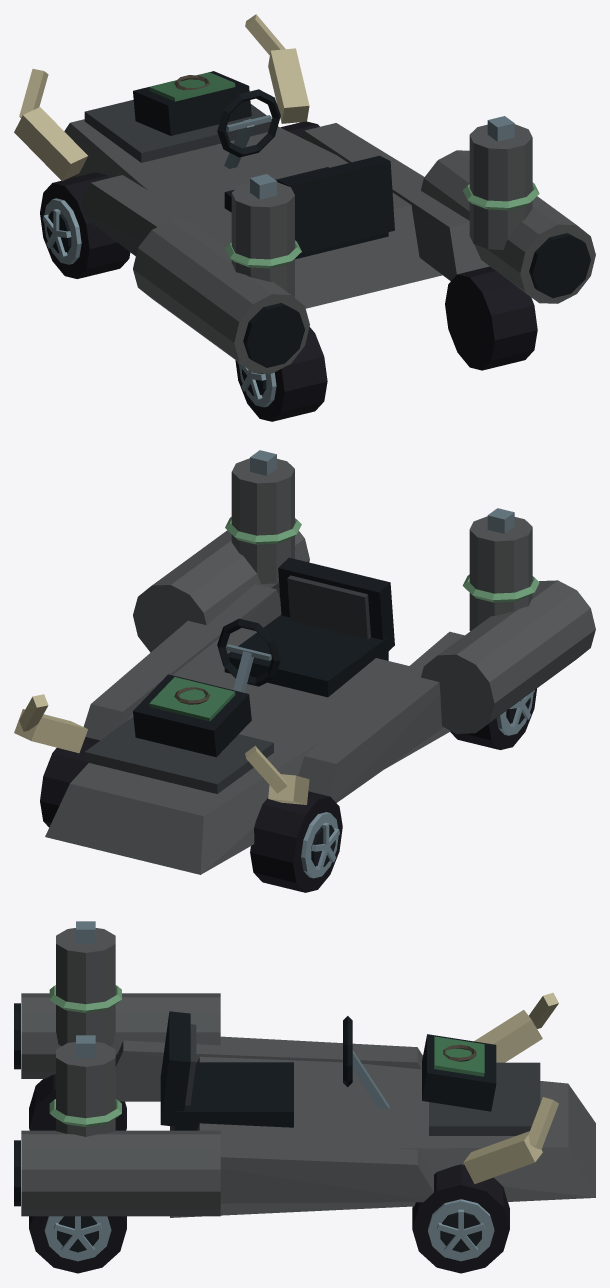
The model's file is kart.glb.
3 views of the same model, one above another, from view 1: azimuth 30°, elevation 25°; view 2: azimuth 150°, elevation 25°; view 3: azimuth 270°, elevation 25° (orthographic).
Parts seen in each view (by area): view 1: identity-speeder-speeder-long-cowl-and-stern-turbines, identity-speeder-motif-tanks, identity-speeder-driver-cockpit, wheel-rear-right, identity-speeder-motif-tusks, wheel-front-left, identity-speeder-motif-scanner, wheel-rear-left; view 2: identity-speeder-speeder-long-cowl-and-stern-turbines, identity-speeder-driver-cockpit, identity-speeder-motif-tanks, wheel-front-left, identity-speeder-motif-scanner, identity-speeder-motif-tusks, wheel-front-right, wheel-rear-left; view 3: identity-speeder-speeder-long-cowl-and-stern-turbines, identity-speeder-motif-tanks, identity-speeder-driver-cockpit, wheel-front-right, identity-speeder-motif-tusks, identity-speeder-motif-scanner, wheel-rear-right, wheel-rear-left.
Boxes of the visible parts, box(x1,y1,x2,y2) form: identity-speeder-speeder-long-cowl-and-stern-turbines: box(64, 99, 595, 373); identity-speeder-motif-tanks: box(225, 116, 539, 296); identity-speeder-driver-cockpit: box(217, 89, 394, 259); wheel-rear-right: box(445, 266, 537, 370); identity-speeder-motif-tusks: box(14, 14, 309, 181); wheel-front-left: box(40, 172, 130, 278); identity-speeder-motif-scanner: box(133, 71, 251, 135); wheel-rear-left: box(235, 327, 327, 421); identity-speeder-speeder-long-cowl-and-stern-turbines: box(45, 530, 595, 874); identity-speeder-driver-cockpit: box(217, 557, 394, 697); identity-speeder-motif-tanks: box(225, 450, 539, 631); wheel-front-left: box(250, 791, 342, 892); identity-speeder-motif-scanner: box(133, 674, 251, 757); identity-speeder-motif-tusks: box(14, 694, 309, 804); wheel-front-right: box(40, 737, 99, 827); wheel-rear-left: box(450, 688, 536, 749); identity-speeder-speeder-long-cowl-and-stern-turbines: box(14, 993, 595, 1217); identity-speeder-motif-tanks: box(49, 921, 121, 1136); identity-speeder-driver-cockpit: box(160, 1011, 389, 1130); wheel-front-right: box(412, 1164, 509, 1273); identity-speeder-motif-tusks: box(463, 992, 558, 1184); identity-speeder-motif-scanner: box(422, 1034, 496, 1111); wheel-rear-right: box(29, 1216, 126, 1273); wheel-rear-left: box(29, 1074, 126, 1130).
Bounding box in the file's own units: 2.1 × 1.3 × 2.98.
